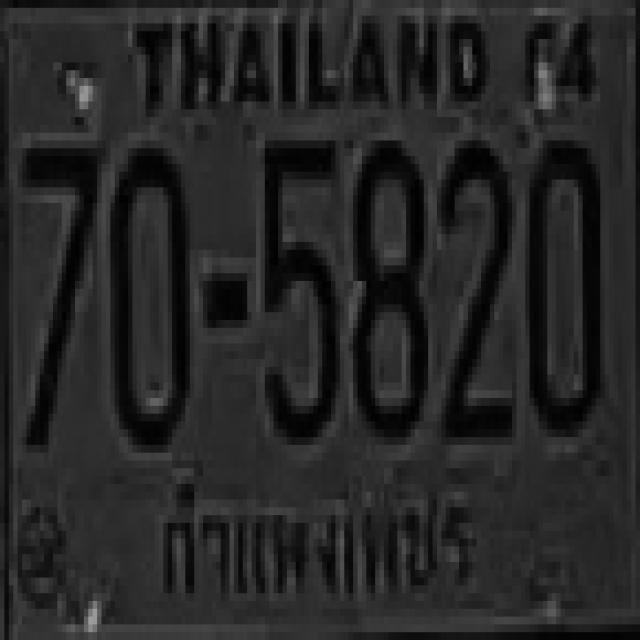0: (106, 140, 185, 445), (523, 133, 598, 429)
2: (439, 137, 510, 433)
5: (260, 133, 336, 437)
7: (22, 140, 97, 445)
8: (348, 133, 424, 437)
KamphaengPhet: (151, 471, 476, 615)
